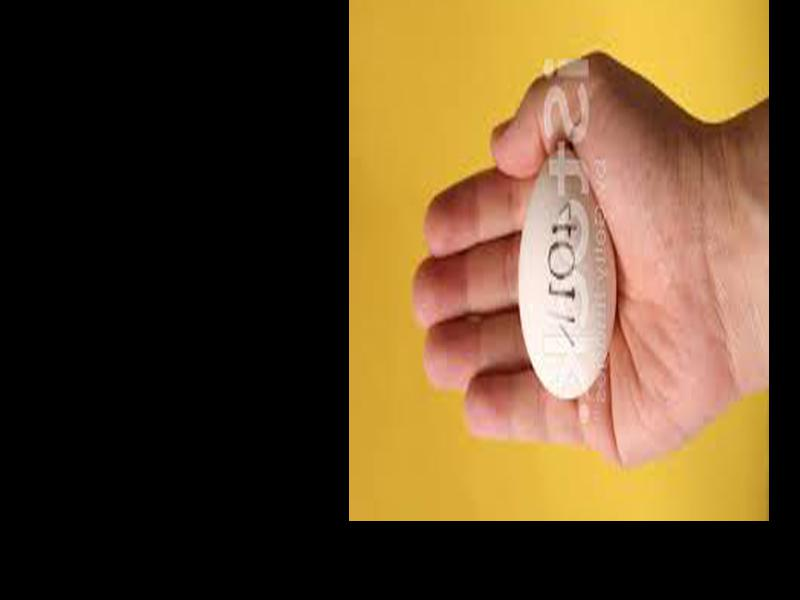Eggs: (518, 147, 615, 398)
